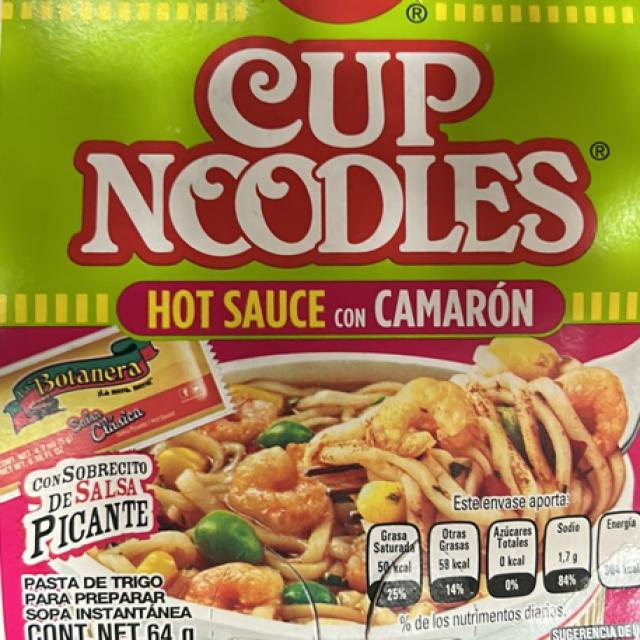nissinCamaron: (9, 3, 634, 630)
